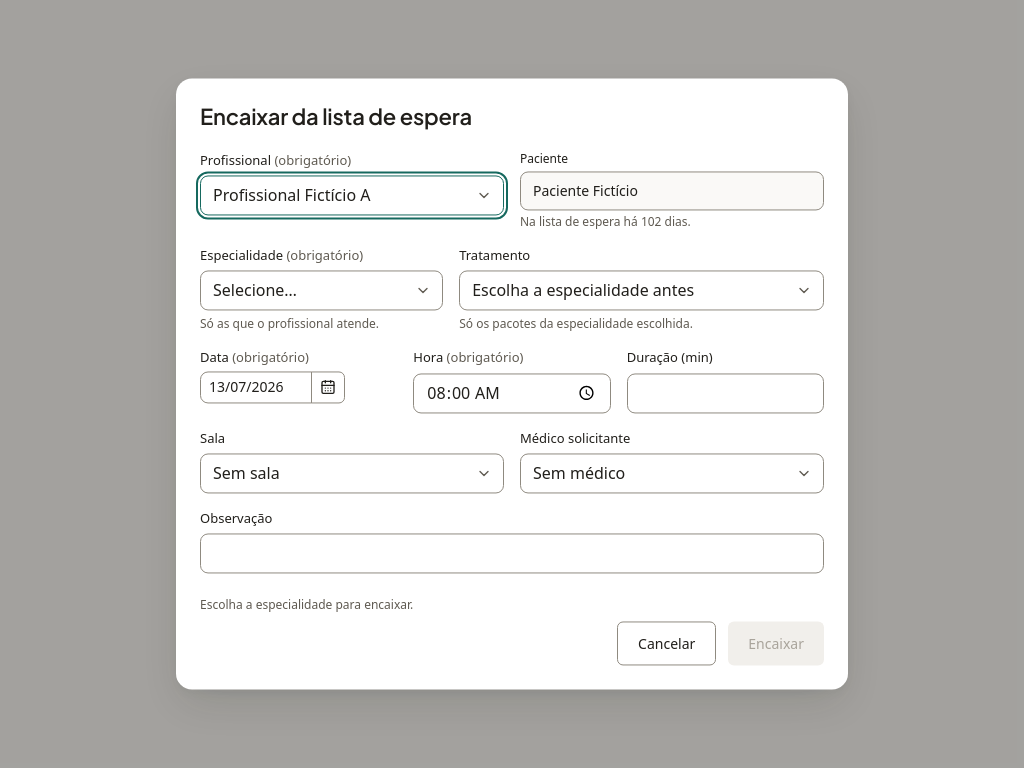
Test: FormularioAgendamento — o Encaixar diz por que está indisponível (o-sistema-avisa-o-que-falta) › deve pedir a especialidade quando a fila não a trouxe, e liberar ao escolher
The image size is (1024, 768).
Select "Fonoaudiologia" in the dropdown labelled "Especialidade (obrigatório)" at x=322, y=291, box left=200, top=271, right=443, bottom=311
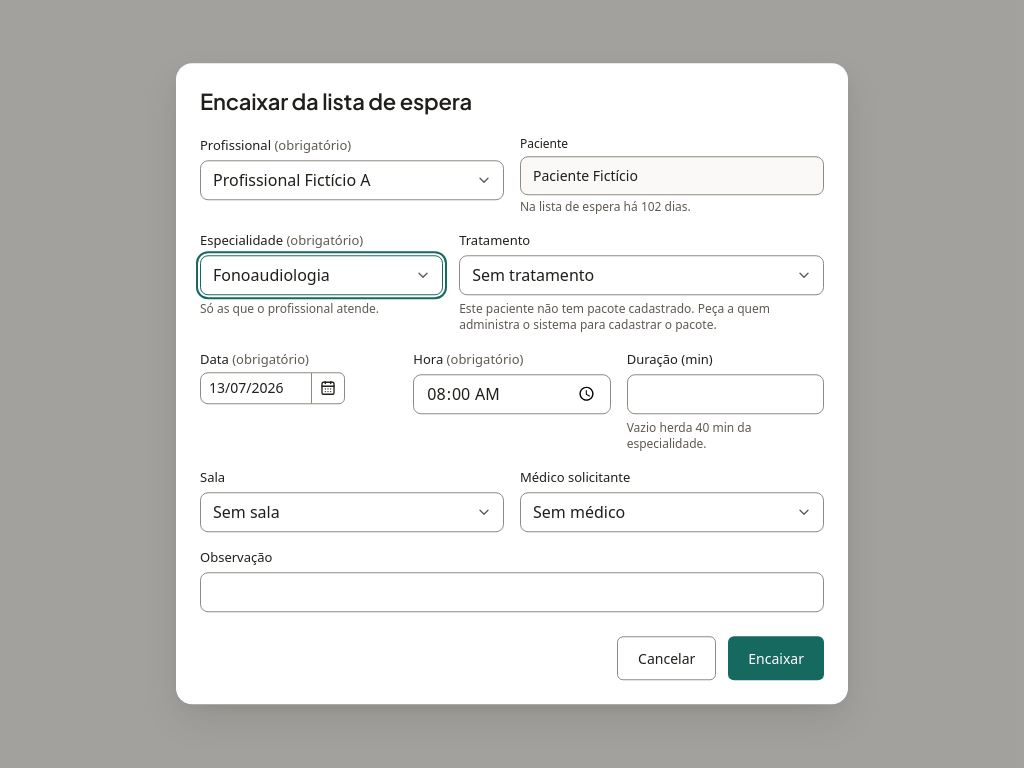
expect the text "Escolha a especialidade para encaixar." is gone: met
